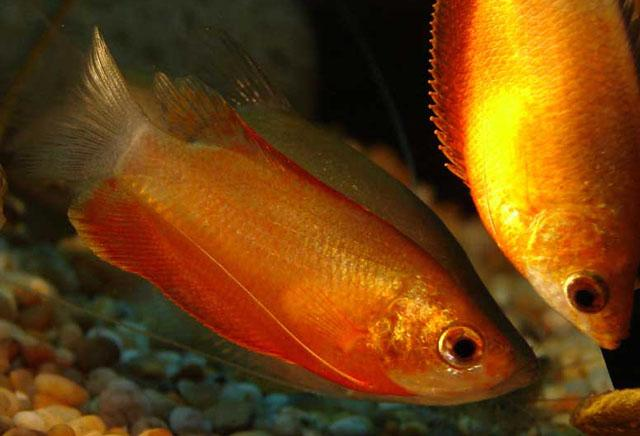Mulut: (495, 318, 563, 412), (580, 314, 640, 366)
Sirip Anal: (56, 177, 370, 387)
Sirip Ekor: (1, 16, 147, 192)
Sirip Punggung: (144, 52, 390, 230), (408, 1, 486, 188)
